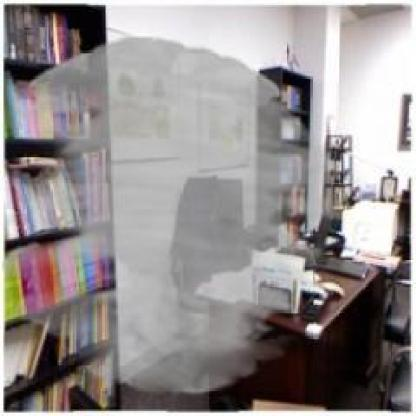Smoke: (2, 37, 343, 396)
